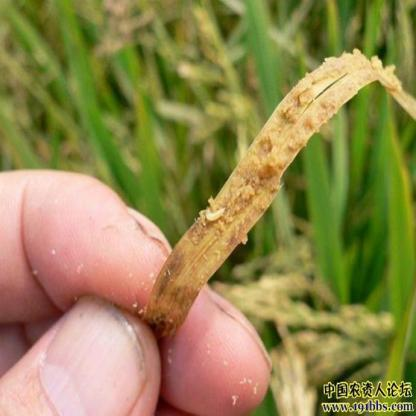whorl-maggot: (201, 206, 233, 230)
